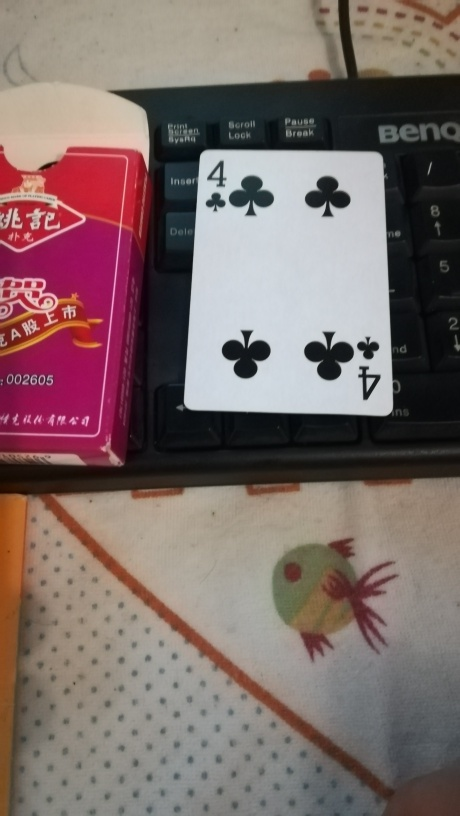mh 4: (180, 147, 396, 417)
